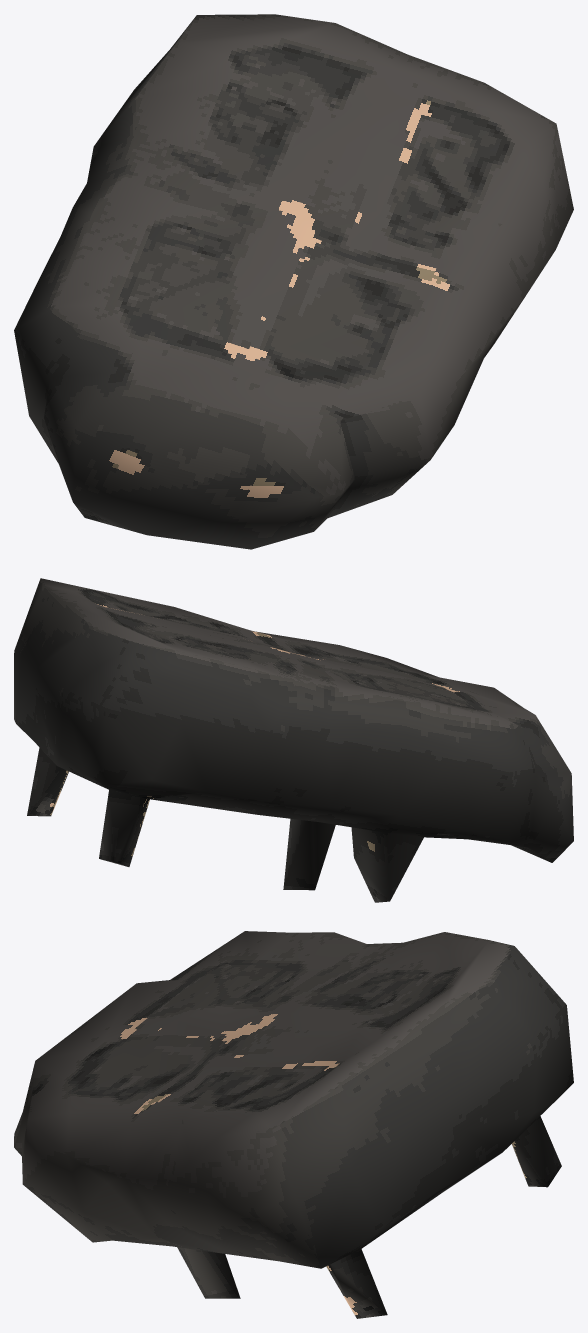
The model's file is enemy_slab.glb.
The picture shows the model from 3 angles, top to bottom: view 1: azimuth 30°, elevation 25°; view 2: azimuth 150°, elevation 25°; view 3: azimuth 270°, elevation 25°; orthographic projection. The views are drawn at different scales.
Visible parts, largest first — view 1: enemy_slab; view 2: enemy_slab; view 3: enemy_slab.
Part boxes in pixels (x1,y1,x2,y2): enemy_slab: [14, 14, 573, 549]; enemy_slab: [14, 578, 573, 902]; enemy_slab: [14, 931, 573, 1318].
Size of the model in its own units: 0.9211 by 0.5961 by 0.8269.
Materials: 1 (1 with a texture image).
